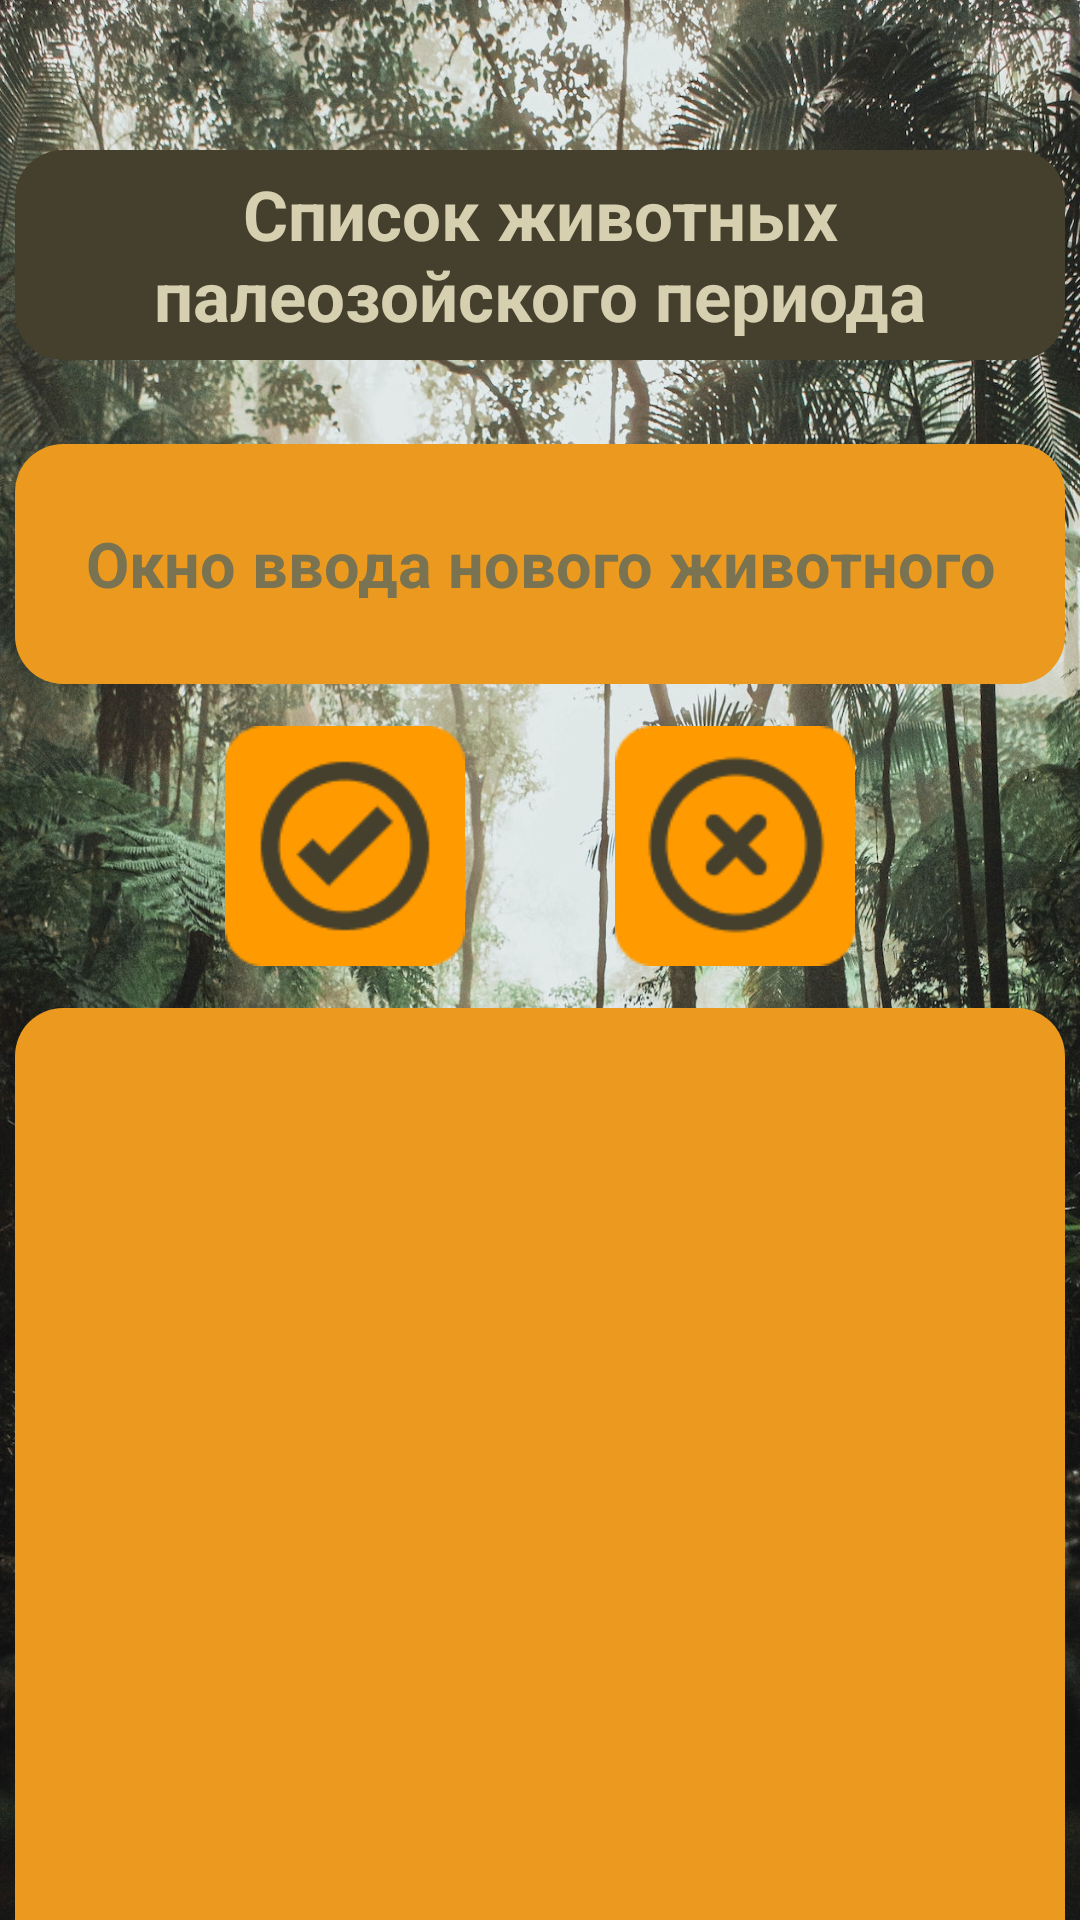

Point at icon controls on the screen. Image size 1080x1920, points as (x=x, y=y).
delete: (x=735, y=846)
